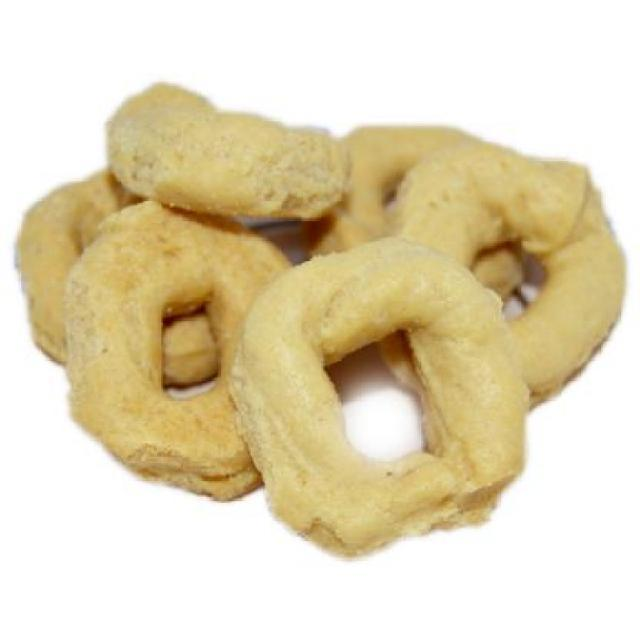Taralli: (19, 85, 624, 558)
